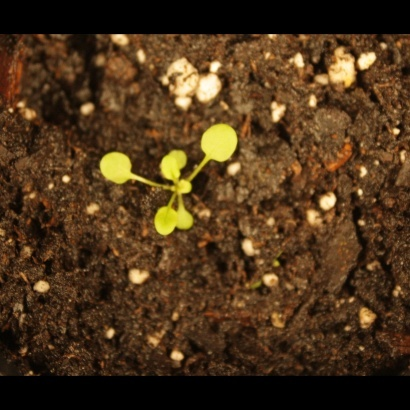leaf: (196, 117, 246, 169), (96, 145, 135, 189), (153, 202, 180, 241), (159, 154, 184, 184), (172, 207, 196, 233), (166, 149, 189, 172), (176, 179, 199, 202)
